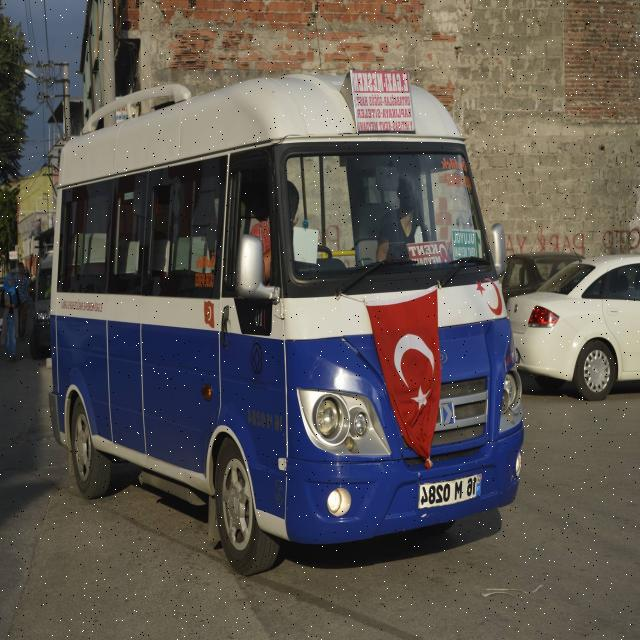bus: (49, 73, 522, 574)
